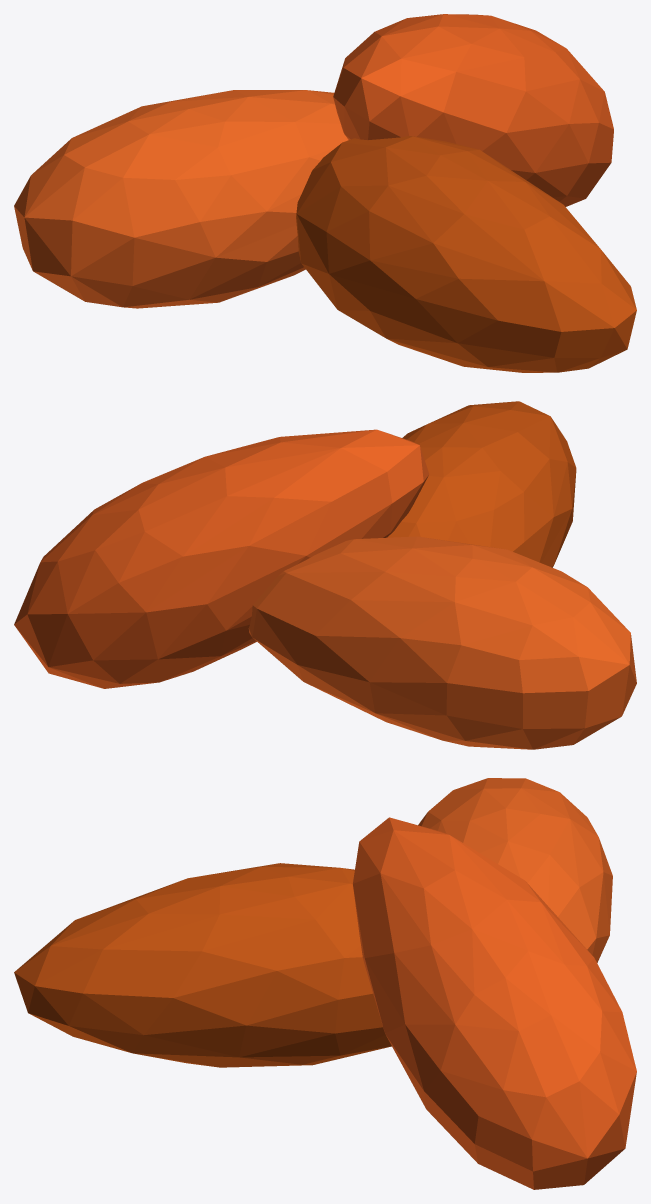
The model's file is SabaBananas_Fried.glb.
3 views of the same model, one above another, from view 1: azimuth 30°, elevation 25°; view 2: azimuth 150°, elevation 25°; view 3: azimuth 270°, elevation 25° (orthographic). The views are drawn at different scales.
Visible parts, largest first — view 1: Sphere.001, Sphere, Sphere.002; view 2: Sphere, Sphere.002, Sphere.001; view 3: Sphere.002, Sphere.001, Sphere.
Boxes of the visible parts, <box> form: Sphere.001: <box>296,136,636,372</box>; Sphere: <box>14,90,348,308</box>; Sphere.002: <box>333,14,613,206</box>; Sphere: <box>248,536,636,749</box>; Sphere.002: <box>14,429,429,688</box>; Sphere.001: <box>387,401,576,567</box>; Sphere.002: <box>353,817,636,1189</box>; Sphere.001: <box>14,863,391,1067</box>; Sphere: <box>418,778,612,962</box>.
Size of the model in its own units: 1.15 by 0.4666 by 1.05.
